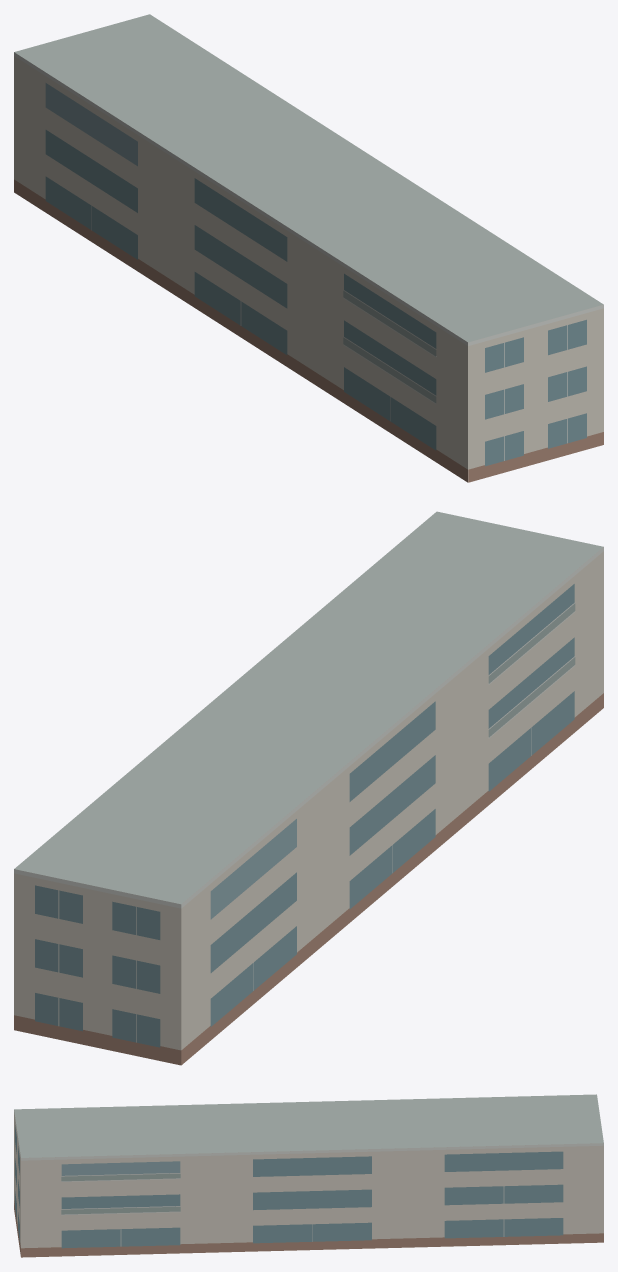
The model's file is residential-dab3106e-728d-414e-ad25-2a22751bad98.glb.
3 views of the same model, one above another, from view 1: azimuth 30°, elevation 25°; view 2: azimuth 150°, elevation 25°; view 3: azimuth 270°, elevation 25° (orthographic). The views are drawn at different scales.
Parts seen in each view (by area): view 1: residential-dab3106e-728d-414e-ad25-2a22751bad98.tmp; view 2: residential-dab3106e-728d-414e-ad25-2a22751bad98.tmp; view 3: residential-dab3106e-728d-414e-ad25-2a22751bad98.tmp.
Boxes of the visible parts, <box> form: residential-dab3106e-728d-414e-ad25-2a22751bad98.tmp: <box>14,14,603,482</box>; residential-dab3106e-728d-414e-ad25-2a22751bad98.tmp: <box>14,511,603,1065</box>; residential-dab3106e-728d-414e-ad25-2a22751bad98.tmp: <box>14,1094,603,1257</box>.
Bounding box in the file's own units: 12.55 × 9.15 × 49.18.
